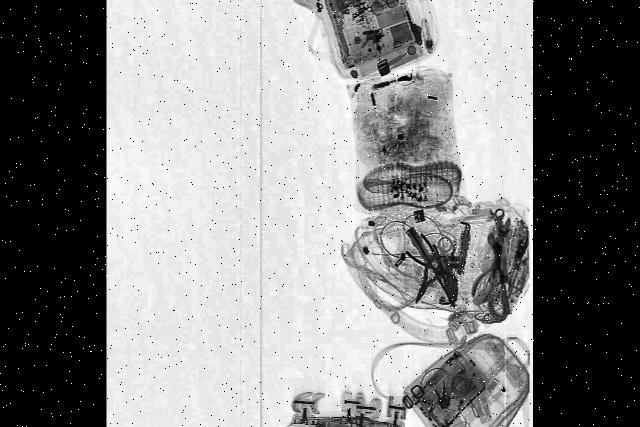Pliers: (406, 225, 450, 290), (409, 248, 446, 310), (472, 247, 507, 308)
